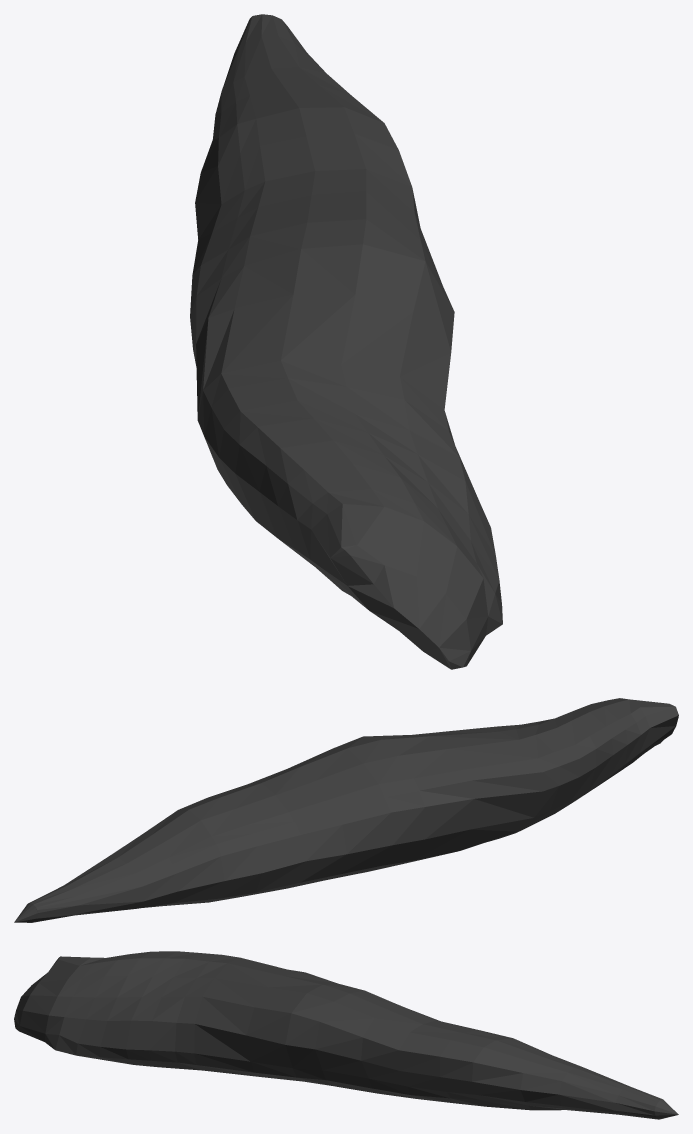
Rendered from DeepDigFlexor_1.glb.
3 renders of one model, top to bottom at view 1: azimuth 30°, elevation 25°; view 2: azimuth 150°, elevation 25°; view 3: azimuth 270°, elevation 25°, orthographic. The views are drawn at different scales.
Visible parts, largest first — view 1: DeepDigFlexor_1; view 2: DeepDigFlexor_1; view 3: DeepDigFlexor_1.
Boxes of the visible parts, x1,y1,x2,y2 form: DeepDigFlexor_1: [190, 14, 502, 669]; DeepDigFlexor_1: [14, 698, 678, 922]; DeepDigFlexor_1: [14, 951, 678, 1119].
Bounding box in the file's own units: 0.0132 × 0.00458 × 0.0277.
1 material, 1 textured.
